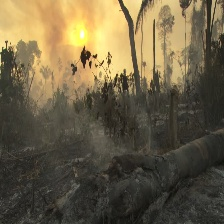smoke: (12, 5, 74, 155)
